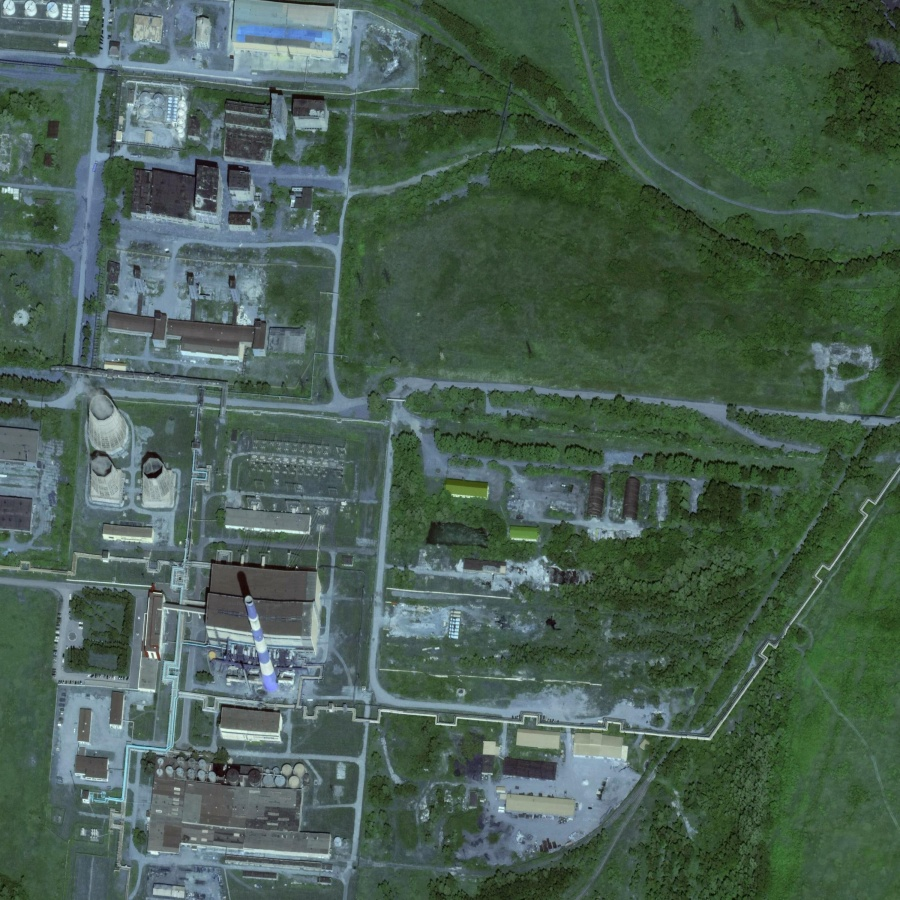PowerPlant: (59, 384, 352, 743)
